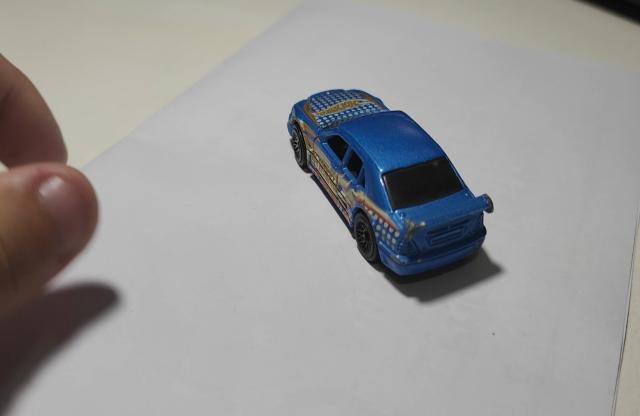04_MERZEDES: (286, 90, 494, 279)
